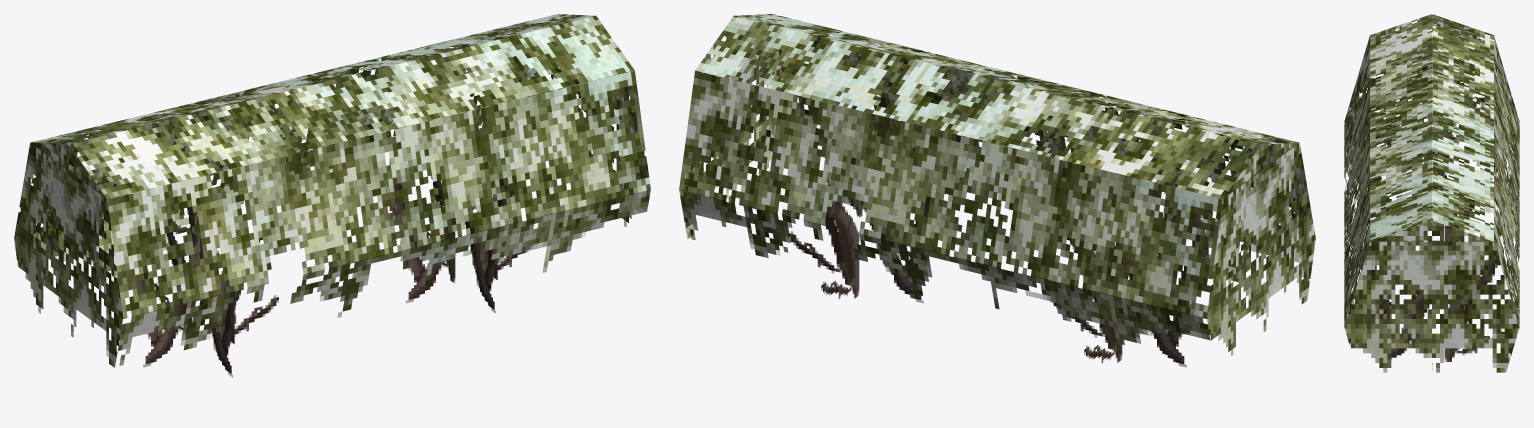
File: bush_long_roots_winter.glb
3 renders of one model, left to right at view 1: azimuth 30°, elevation 25°; view 2: azimuth 150°, elevation 25°; view 3: azimuth 270°, elevation 25°, orthographic. The views are drawn at different scales.
Visible parts, largest first — view 1: bush_long_roots_winter; view 2: bush_long_roots_winter; view 3: bush_long_roots_winter.
Part boxes in pixels (bbox=[...]): bush_long_roots_winter: bbox=[14, 14, 650, 377]; bush_long_roots_winter: bbox=[679, 14, 1315, 367]; bush_long_roots_winter: bbox=[1344, 14, 1519, 372].
Size of the model in its own units: 2.01 by 0.8765 by 0.7191.
2 materials, 2 textured.
